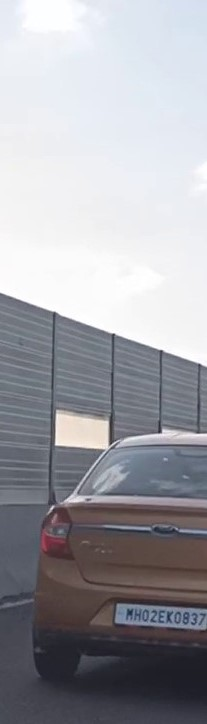MH02EK0837: (115, 599, 207, 631)
